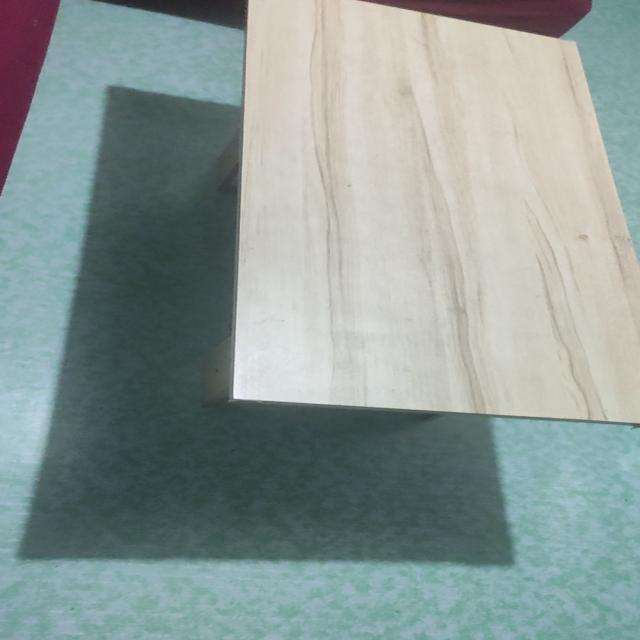table: (208, 0, 640, 442)
